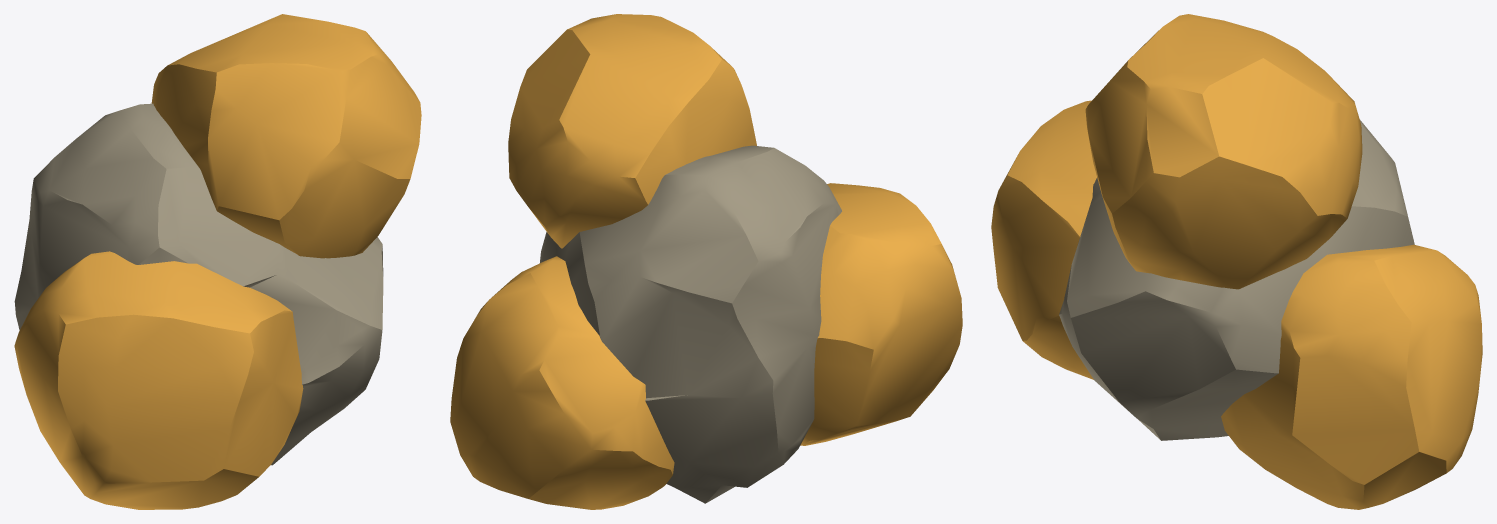
The model's file is UI_Gold.glb.
3 views of the same model, side by side, from view 1: azimuth 30°, elevation 25°; view 2: azimuth 150°, elevation 25°; view 3: azimuth 270°, elevation 25° (orthographic). The views are drawn at different scales.
Parts seen in each view (by area): view 1: UI_Gold; view 2: UI_Gold; view 3: UI_Gold.
Boxes of the visible parts, box(x1,y1,x2,y2) form: UI_Gold: box(14, 14, 421, 509); UI_Gold: box(450, 14, 962, 509); UI_Gold: box(991, 14, 1482, 509).
Size of the model in its own units: 0.3996 by 0.4168 by 0.414.
Materials: 1 (1 with a texture image).
